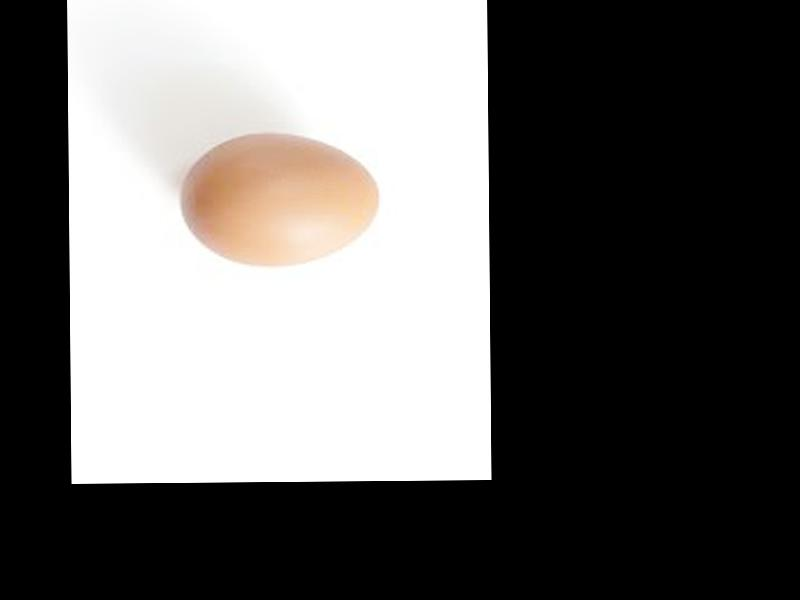Eggs: (180, 133, 381, 265)
